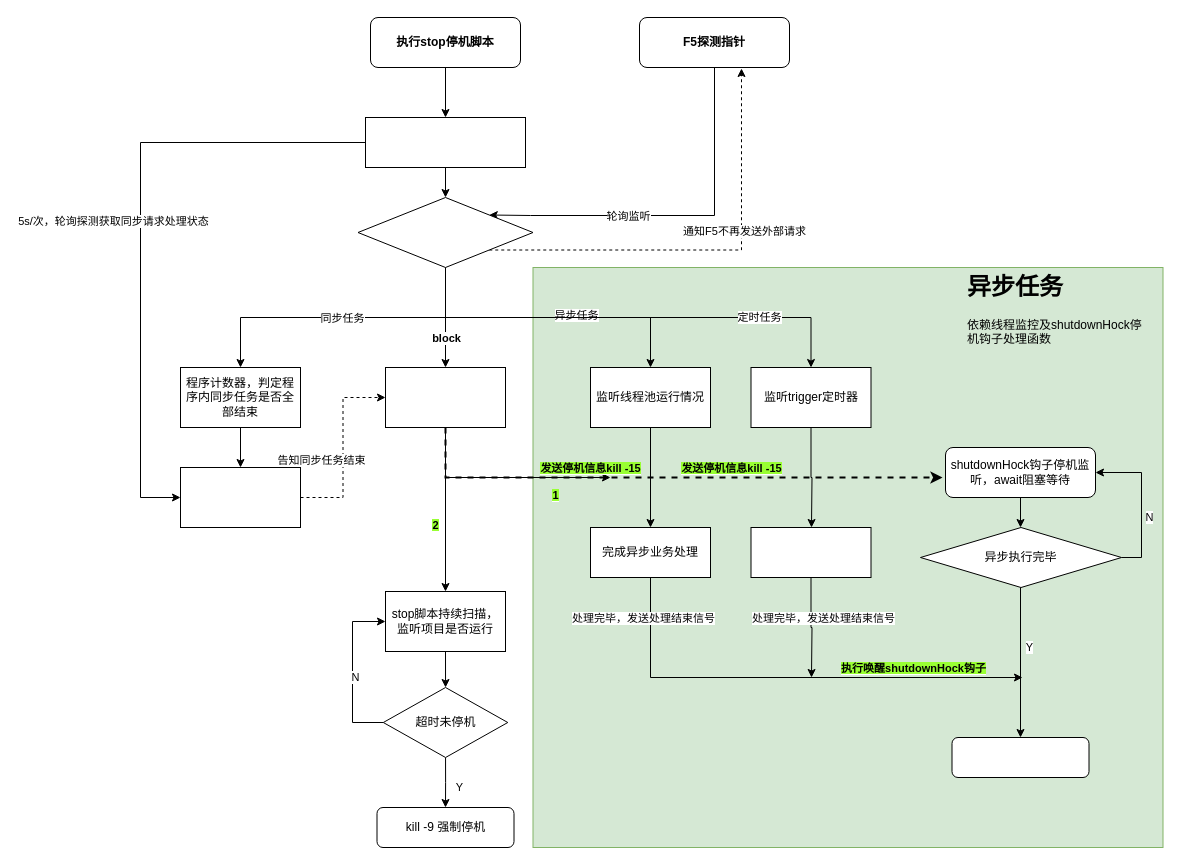
This 1180x865 diagram has some shape labels left out. The shapes that lost their labels are listed below. From the top down, each one's centre as x and y in pixels, then its label:
(x=445, y=142): 修改环境变量APP运行态
(x=445, y=232): 状态不为running
(x=445, y=397): 脚本阻塞等待同步任务执完毕
(x=240, y=497): 启动定时探测线程，利用AOP加计数器判定当前同步任务情况
(x=810, y=552): 定时器异步任务组作业调度
(x=1020, y=757): 钩子关闭，项目停机
